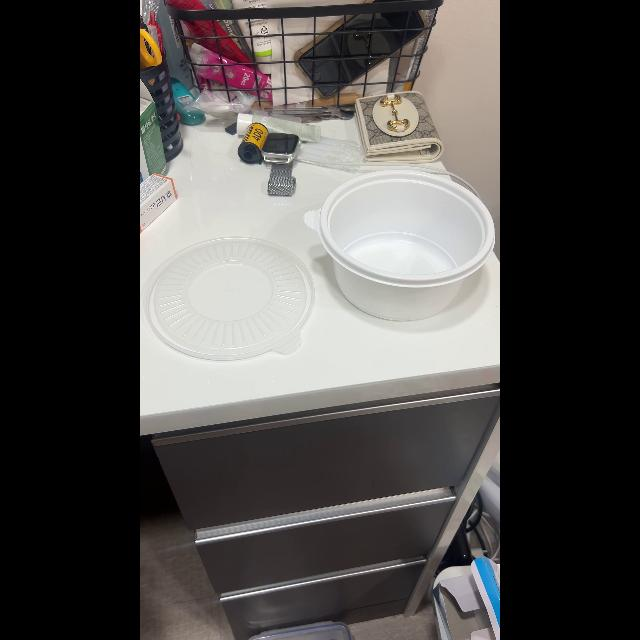clean: (307, 172, 495, 320), (148, 240, 308, 354)
